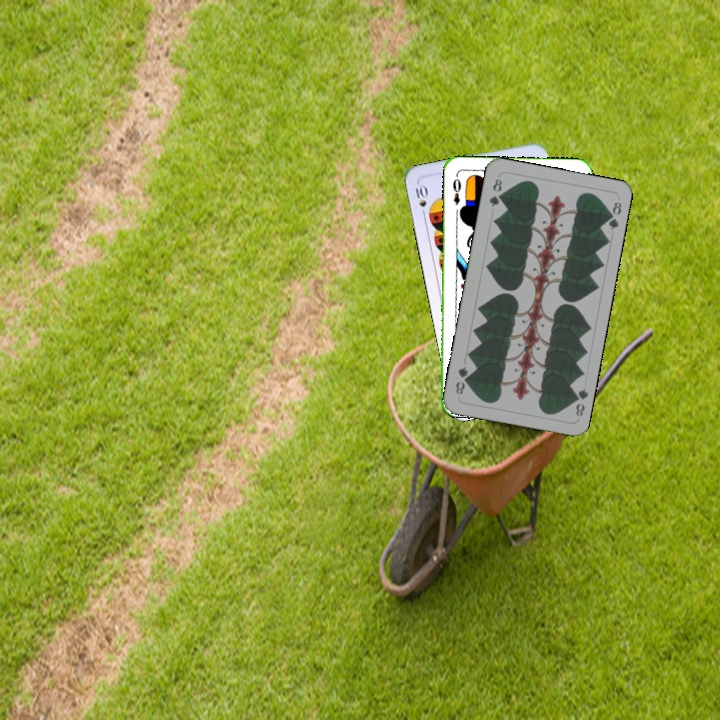EO: (448, 171, 464, 207)
G8: (568, 384, 590, 419), (485, 174, 505, 210)
S10: (411, 180, 430, 220)
